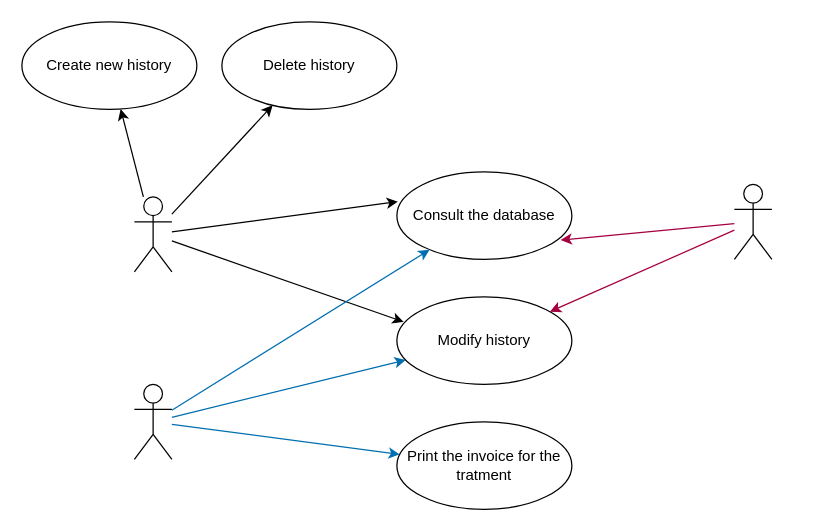
Some shapes in this 816 by 531 pixel diagram are drawn without their labels. Here are the shapes that lost their labels. From the top down, the centre of each, then its label:
the point at 152,234: DENTISTS
the point at 752,221: ASSISTANT
the point at 152,421: RECEPTIONIST
